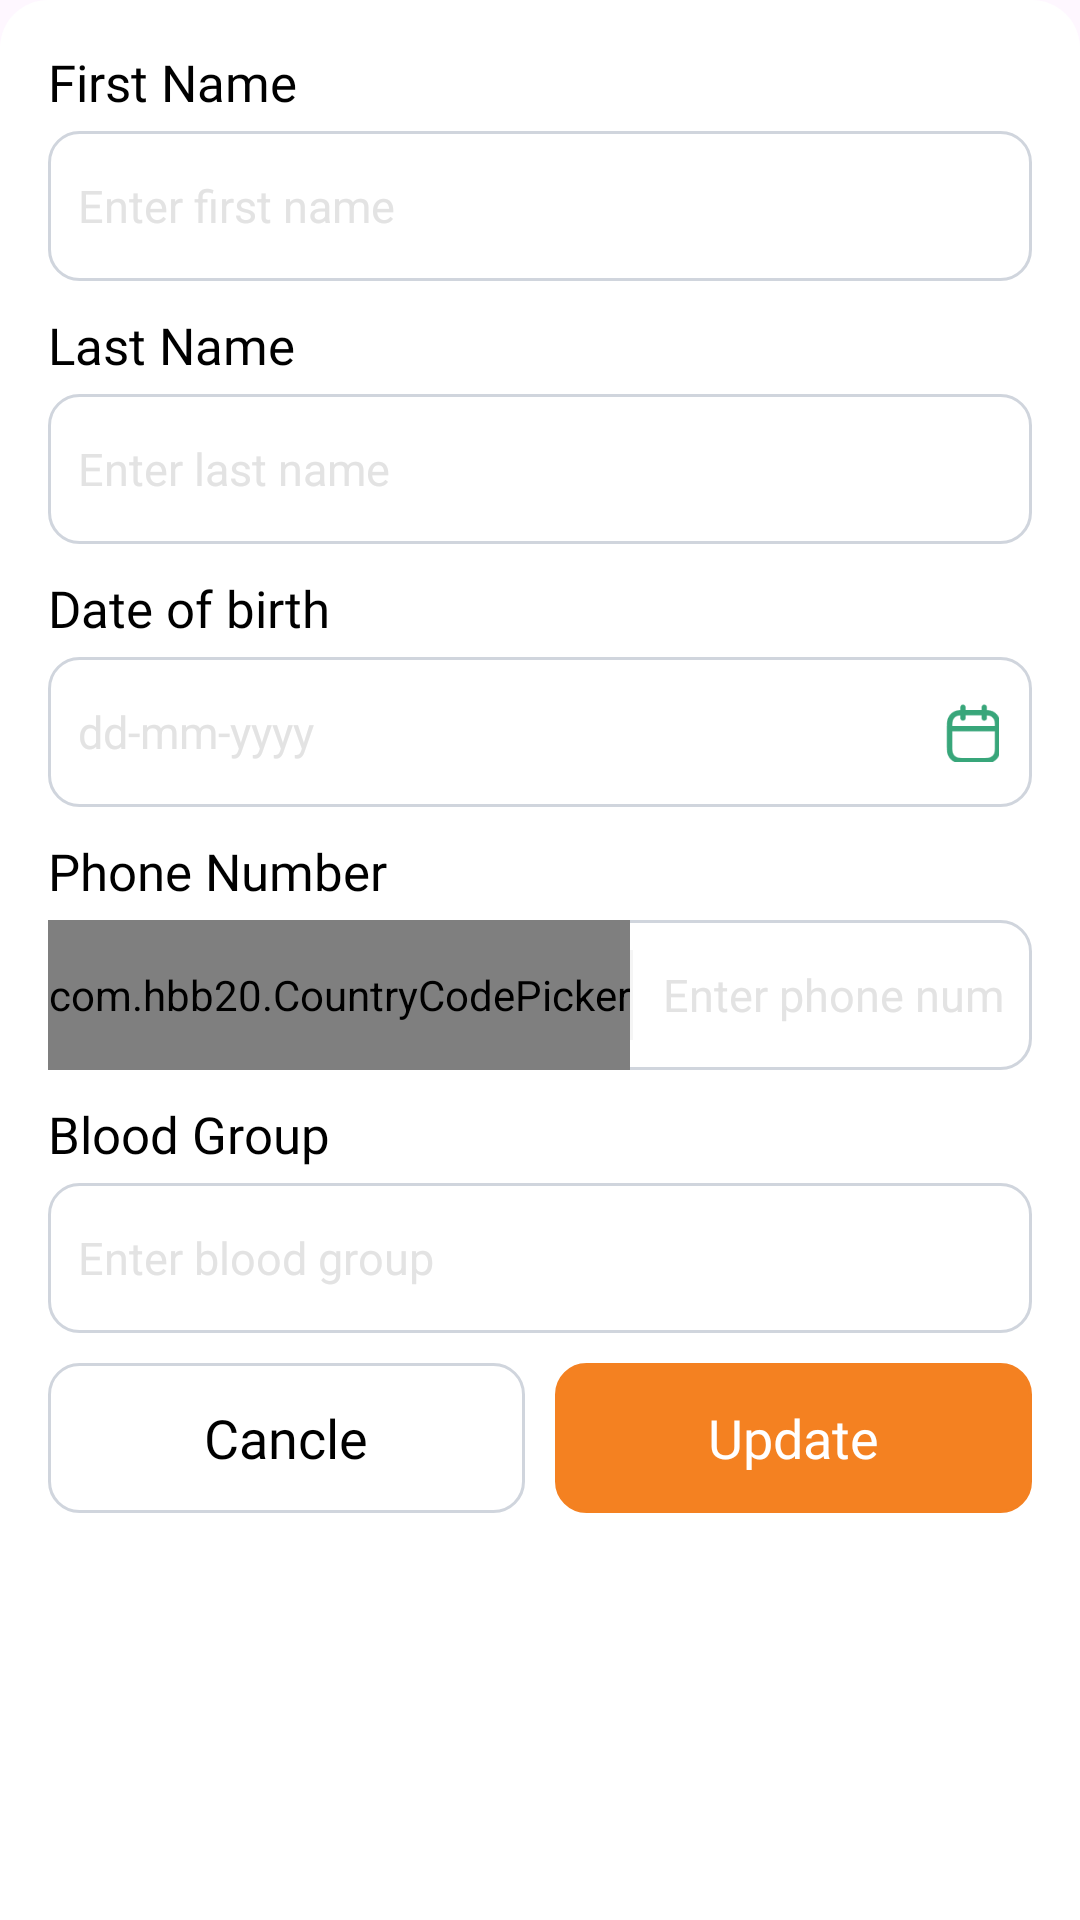

Named icons in this screenshot (1080w x 1920h) and their bounding boxes, (x1,y1,x2,y2):
calender: (946,704,999,762)
